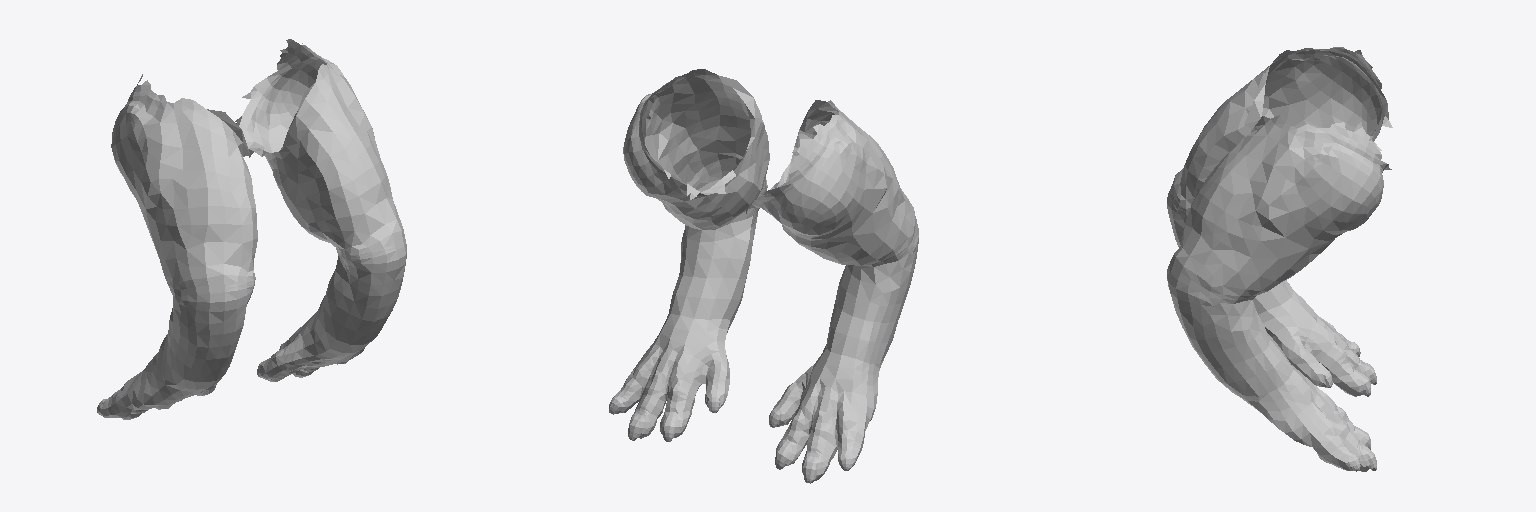
3 renders of one model, left to right at view 1: azimuth 30°, elevation 25°; view 2: azimuth 150°, elevation 25°; view 3: azimuth 270°, elevation 25°, orthographic.
Visible parts, largest first — view 1: aa_low.001_Cube, aa_low.001_Cube.007; view 2: aa_low.001_Cube.007, aa_low.001_Cube; view 3: aa_low.001_Cube.007, aa_low.001_Cube.
Boxes of the visible parts, <box> form: aa_low.001_Cube: <box>97,74,257,419</box>; aa_low.001_Cube.007: <box>235,39,406,381</box>; aa_low.001_Cube.007: <box>609,69,769,441</box>; aa_low.001_Cube: <box>746,100,918,483</box>; aa_low.001_Cube.007: <box>1167,115,1391,471</box>; aa_low.001_Cube: <box>1167,47,1392,396</box>.
Bounding box in the file's own units: 17.47 × 23.61 × 14.09.